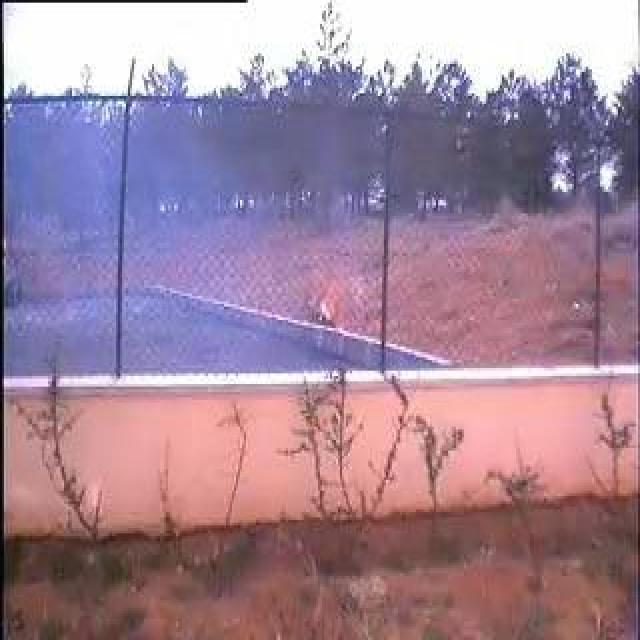Smoke: (59, 124, 305, 369)
